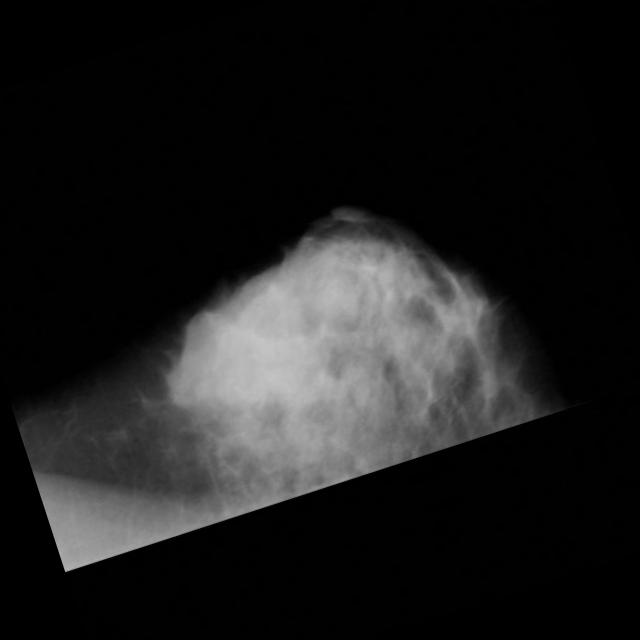CALC: (300, 467, 310, 478)
